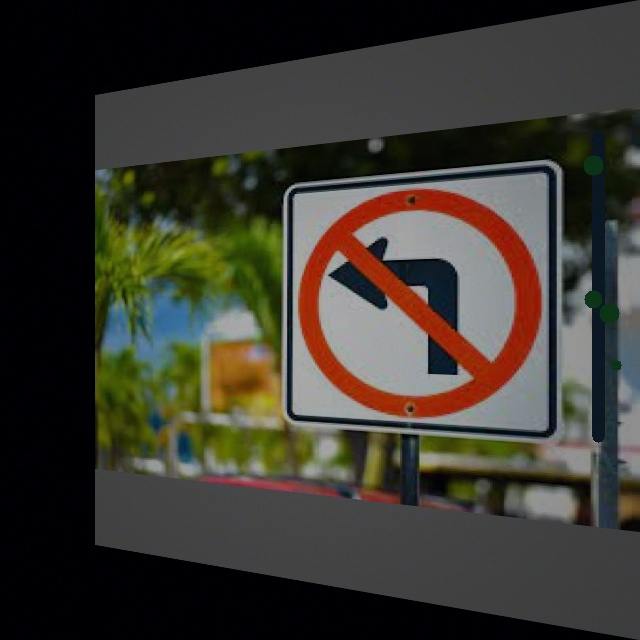Left_Turn_Prohibited: (297, 176, 549, 433)
